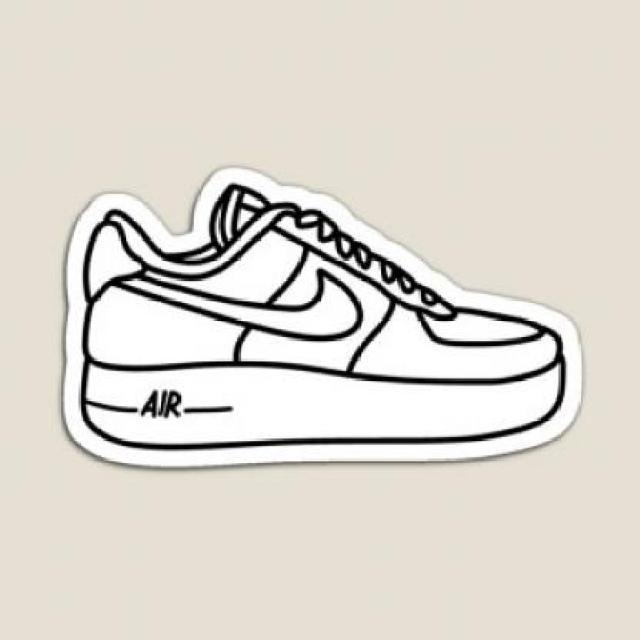Nike: (126, 265, 366, 344)
